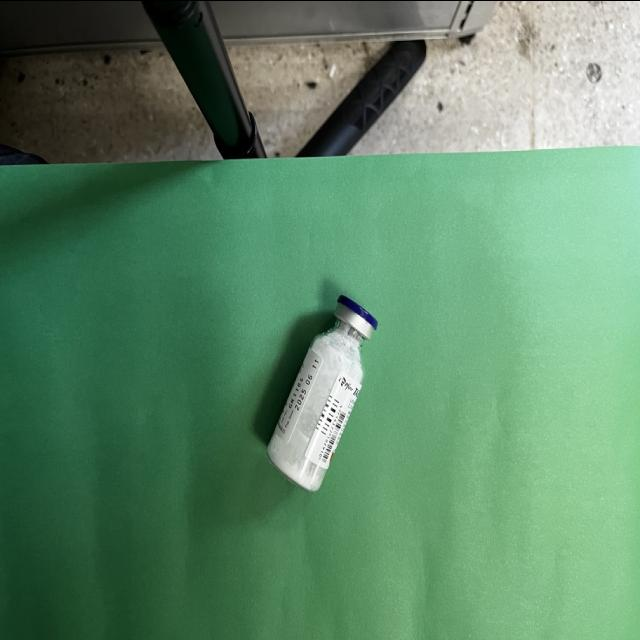Vials: (266, 293, 378, 491)
